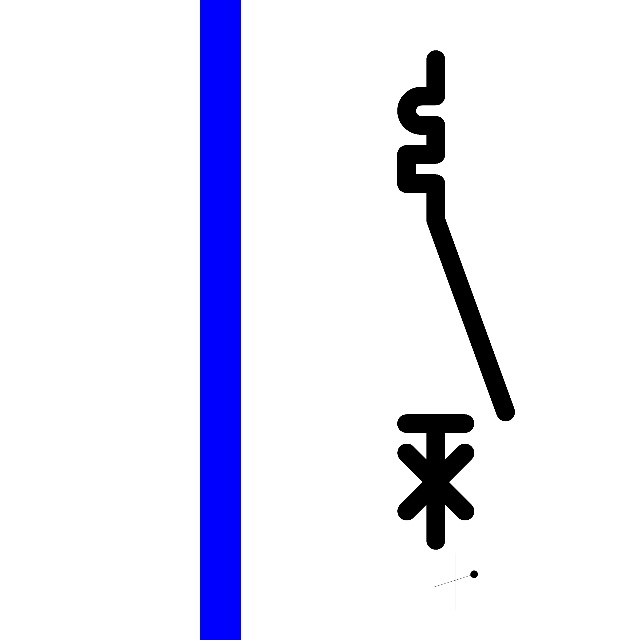interruptor_termomagnetico: (394, 47, 517, 552)
